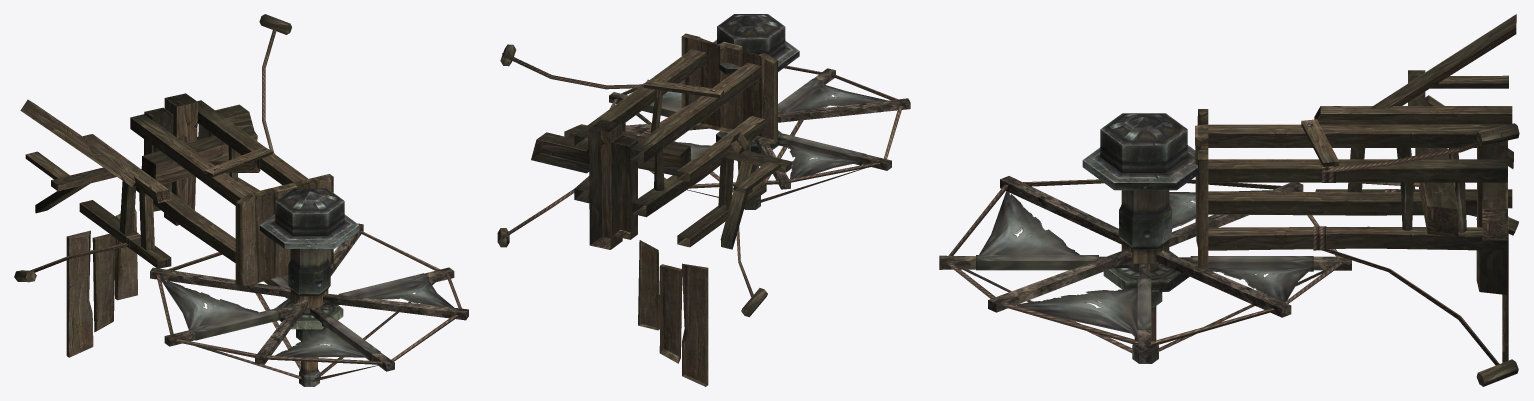
File: juqing_yewai_333_common_01.obj
3 views of the same model, side by side, from view 1: azimuth 30°, elevation 25°; view 2: azimuth 150°, elevation 25°; view 3: azimuth 270°, elevation 25° (orthographic). The views are drawn at different scales.
Visible parts, largest first — view 1: juqing_yewai_333_common_01; view 2: juqing_yewai_333_common_01; view 3: juqing_yewai_333_common_01.
Boxes of the visible parts, left/top/right/bottom form: juqing_yewai_333_common_01: left=14, top=14, right=468, bottom=386; juqing_yewai_333_common_01: left=497, top=14, right=910, bottom=386; juqing_yewai_333_common_01: left=939, top=14, right=1519, bottom=386.
Bounding box in the file's own units: 146 × 139 × 200.
Materials: 5 (5 with a texture image).
